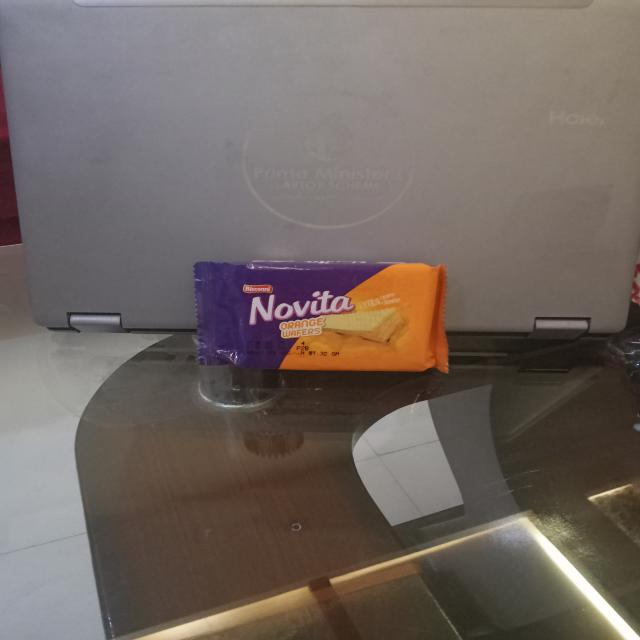Plastic: (187, 252, 458, 380)
